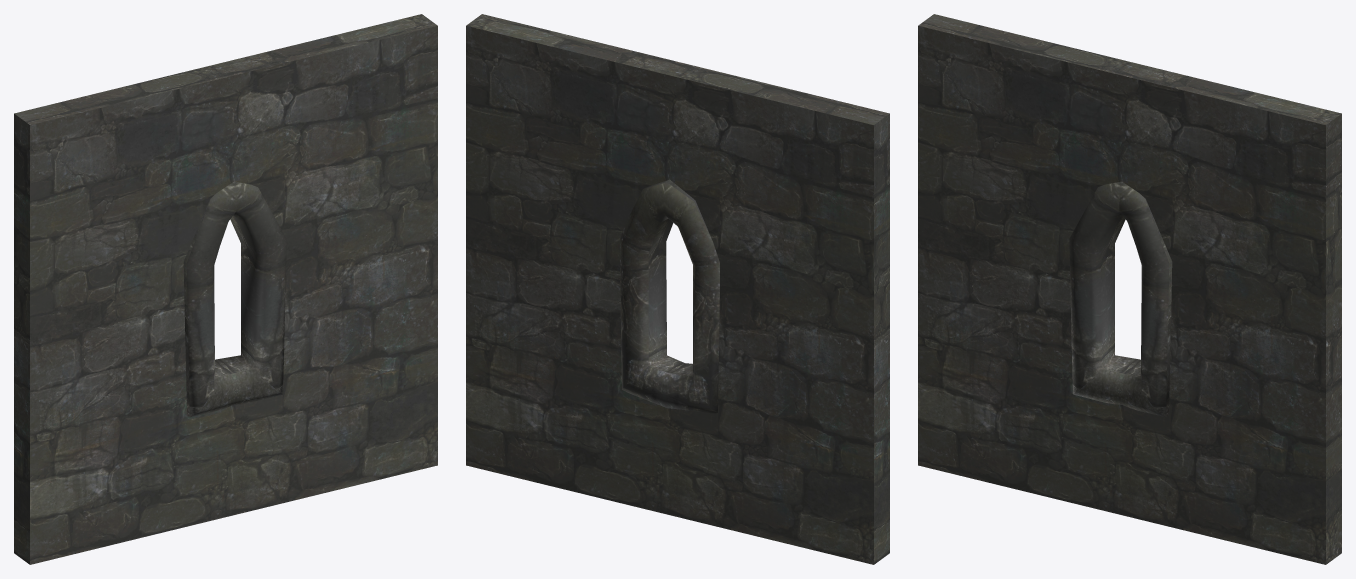
Rendered from Model_CASTLE_WINDOW.FBX.
The picture shows the model from 3 angles, left to right: view 1: azimuth 30°, elevation 25°; view 2: azimuth 150°, elevation 25°; view 3: azimuth 330°, elevation 25°; orthographic projection.
Visible parts, largest first — view 1: Model_CASTLE_WINDOW; view 2: Model_CASTLE_WINDOW; view 3: Model_CASTLE_WINDOW.
Boxes of the visible parts, bbox=[...] form: Model_CASTLE_WINDOW: bbox=[14, 14, 437, 564]; Model_CASTLE_WINDOW: bbox=[466, 14, 889, 564]; Model_CASTLE_WINDOW: bbox=[918, 14, 1341, 564].
Size of the model in its own units: 216 by 223 by 24.99.
1 material, 1 textured.
